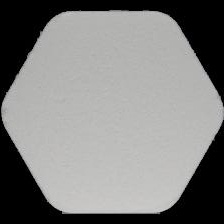12634-502: (0, 0, 224, 224)
